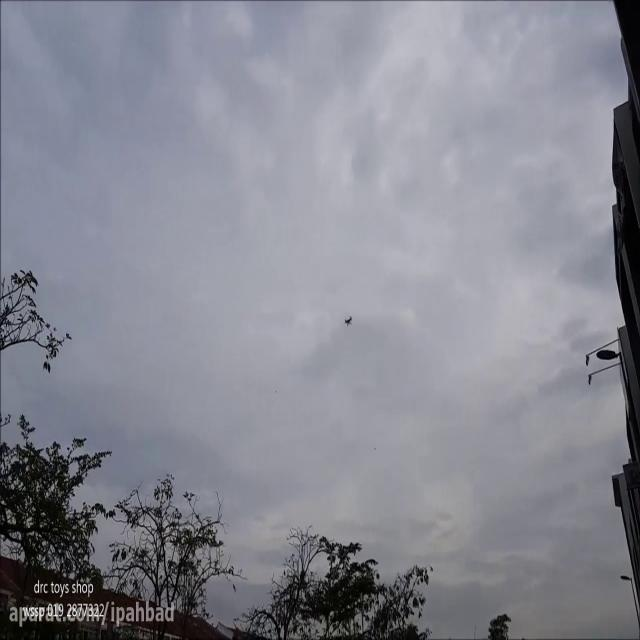drone: (342, 312, 354, 330)
